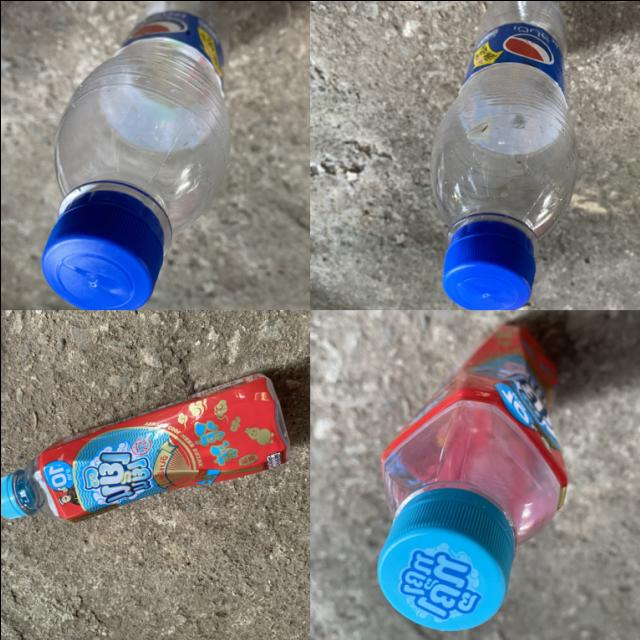plastik: (40, 0, 228, 309), (377, 325, 566, 630), (429, 0, 575, 309), (0, 374, 288, 522)
